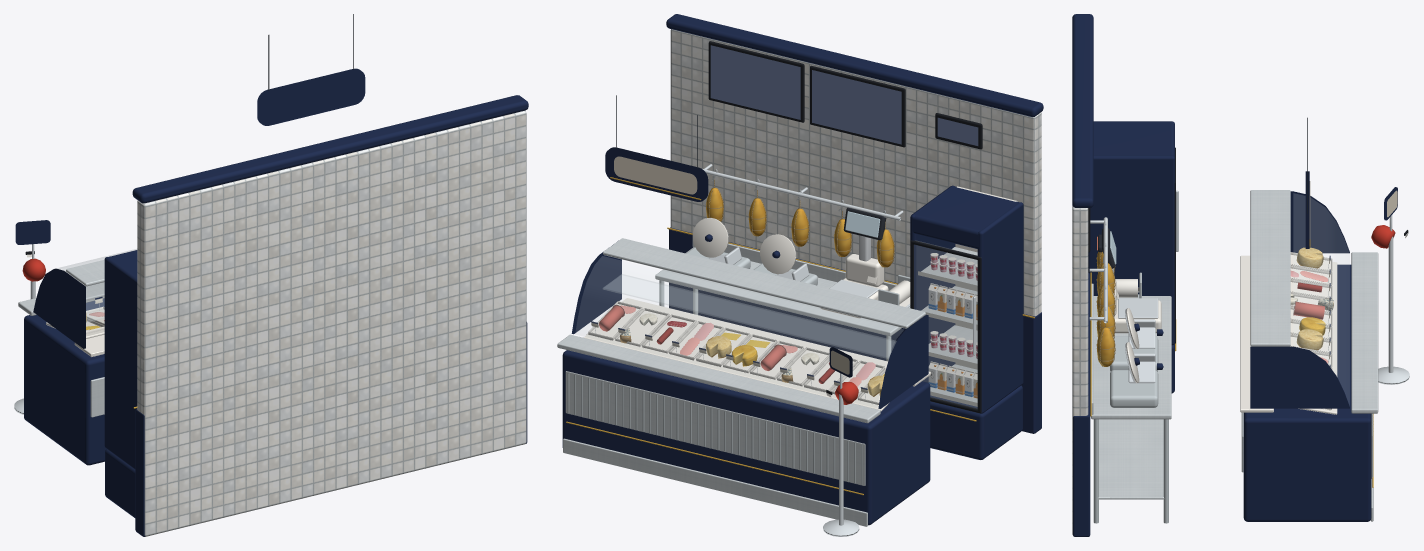
The model's file is sector-queijaria_T2.fbx.
3 views of the same model, side by side, from view 1: azimuth 30°, elevation 25°; view 2: azimuth 150°, elevation 25°; view 3: azimuth 270°, elevation 25° (orthographic). The views are drawn at different scales.
Parts seen in each view (by area): view 1: Body; view 2: Body; view 3: Body.
Boxes of the visible parts, x1,y1,x2,y2 form: Body: [14, 14, 528, 536]; Body: [557, 14, 1043, 536]; Body: [1072, 14, 1409, 536].
Size of the model in its own units: 3.29 by 2.89 by 2.51.
